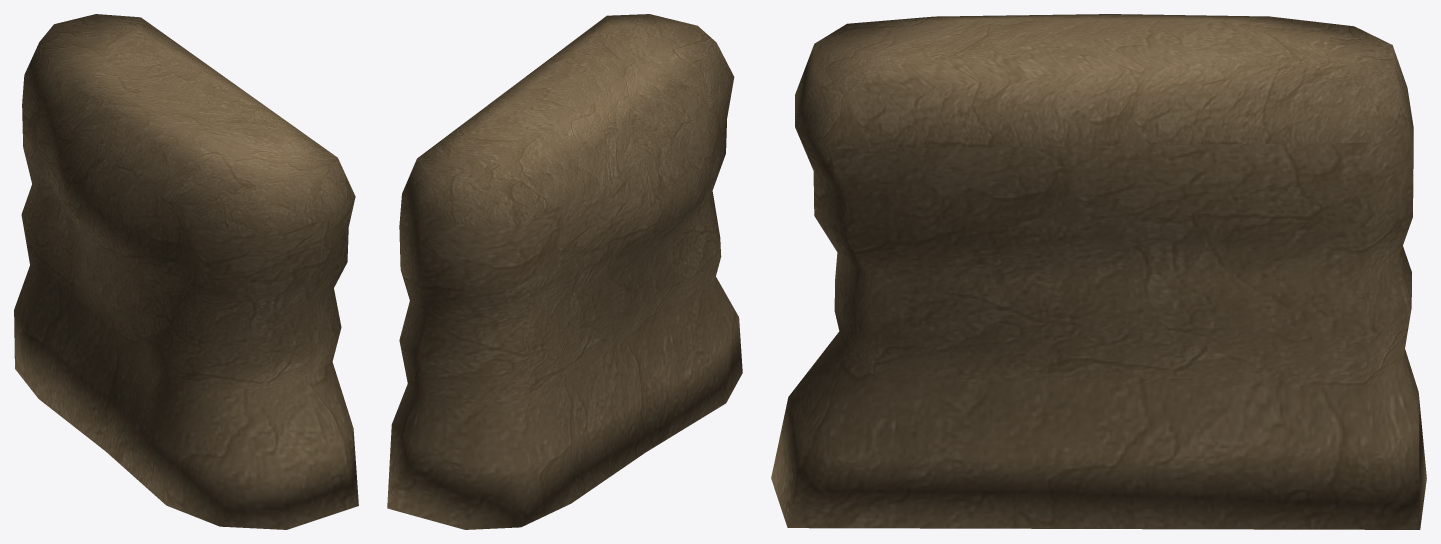
File: Basic_MediumPlat.fbx
3 renders of one model, left to right at view 1: azimuth 30°, elevation 25°; view 2: azimuth 150°, elevation 25°; view 3: azimuth 270°, elevation 25°, orthographic. The views are drawn at different scales.
Visible parts, largest first — view 1: pCube2; view 2: pCube2; view 3: pCube2.
Part boxes in pixels (x1,y1,x2,y2): pCube2: (14,14,358,529); pCube2: (387,14,742,529); pCube2: (771,14,1426,529).
Size of the model in its own units: 270 by 514 by 676.
1 material, 1 textured.
